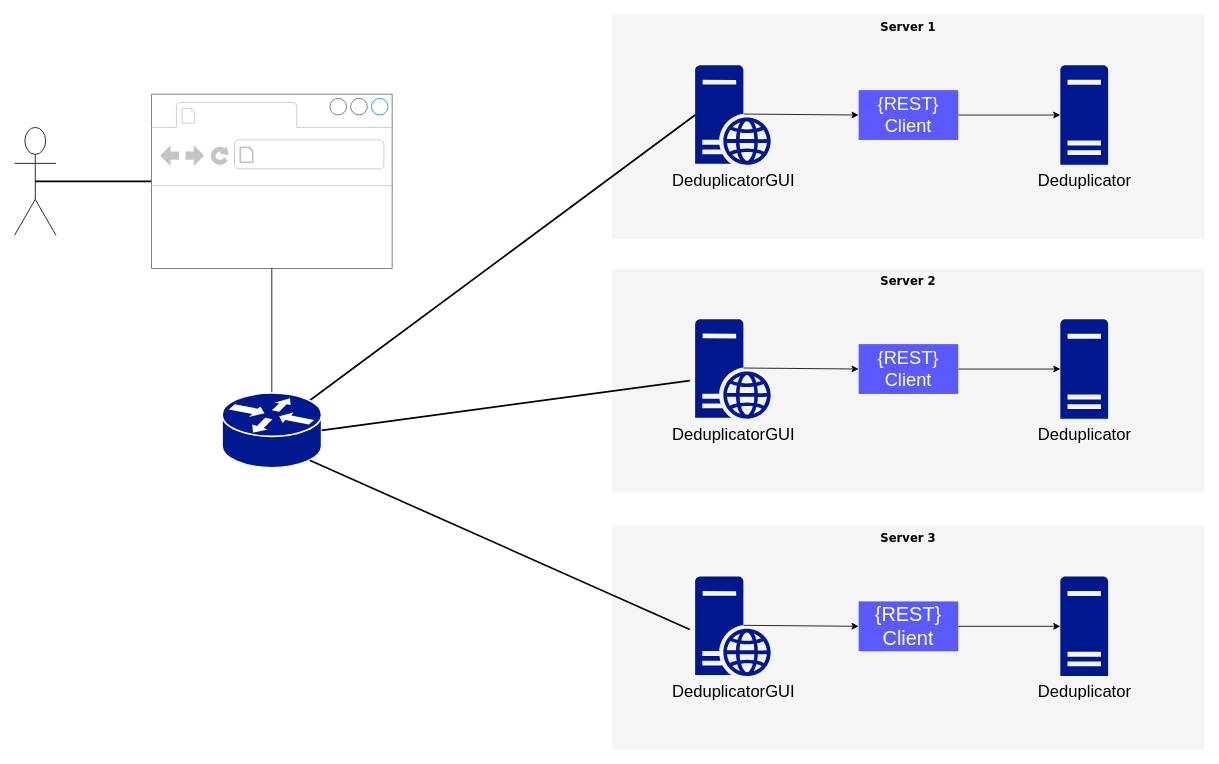
Some shapes in this 1219 by 764 pixel diagram are drawn without their labels. Here are the shapes that lost their labels. From the top down, the centre of each, then its label:
At pixel 246 114: "Page 1".
At pixel 317 154: "https://xxx.xxx.xxx".
At pixel 35 181: "User".
